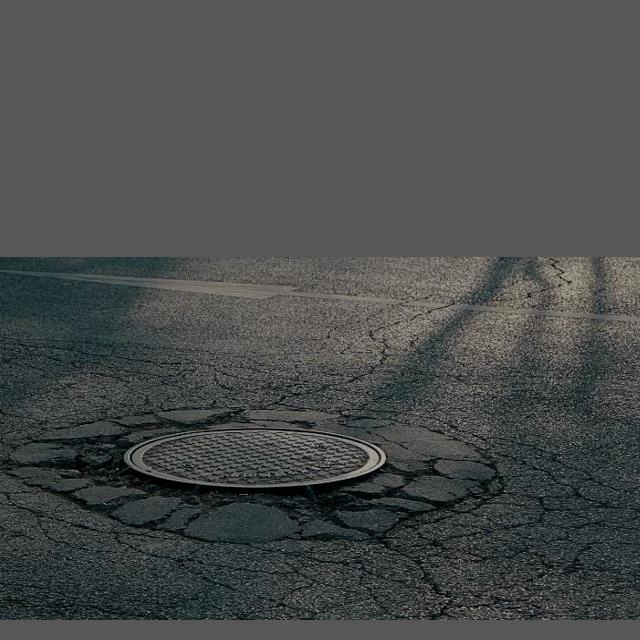circle: (51, 402, 517, 560)
